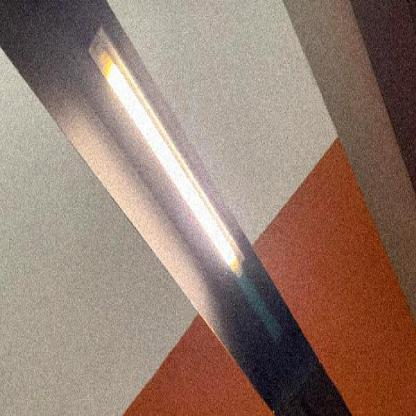light_on: (78, 20, 259, 311)
